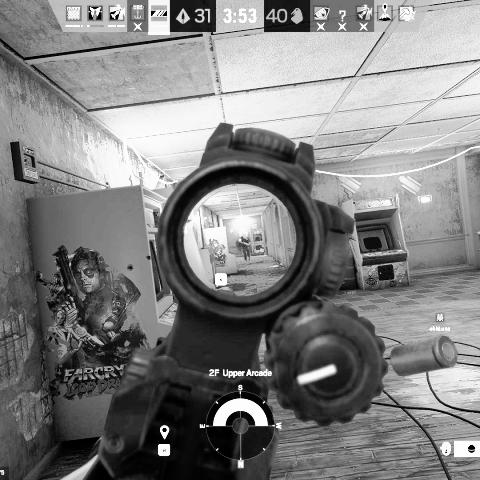Character: (237, 236, 250, 262)
Friend_label: (429, 313, 452, 331)
Head: (240, 236, 244, 240)
